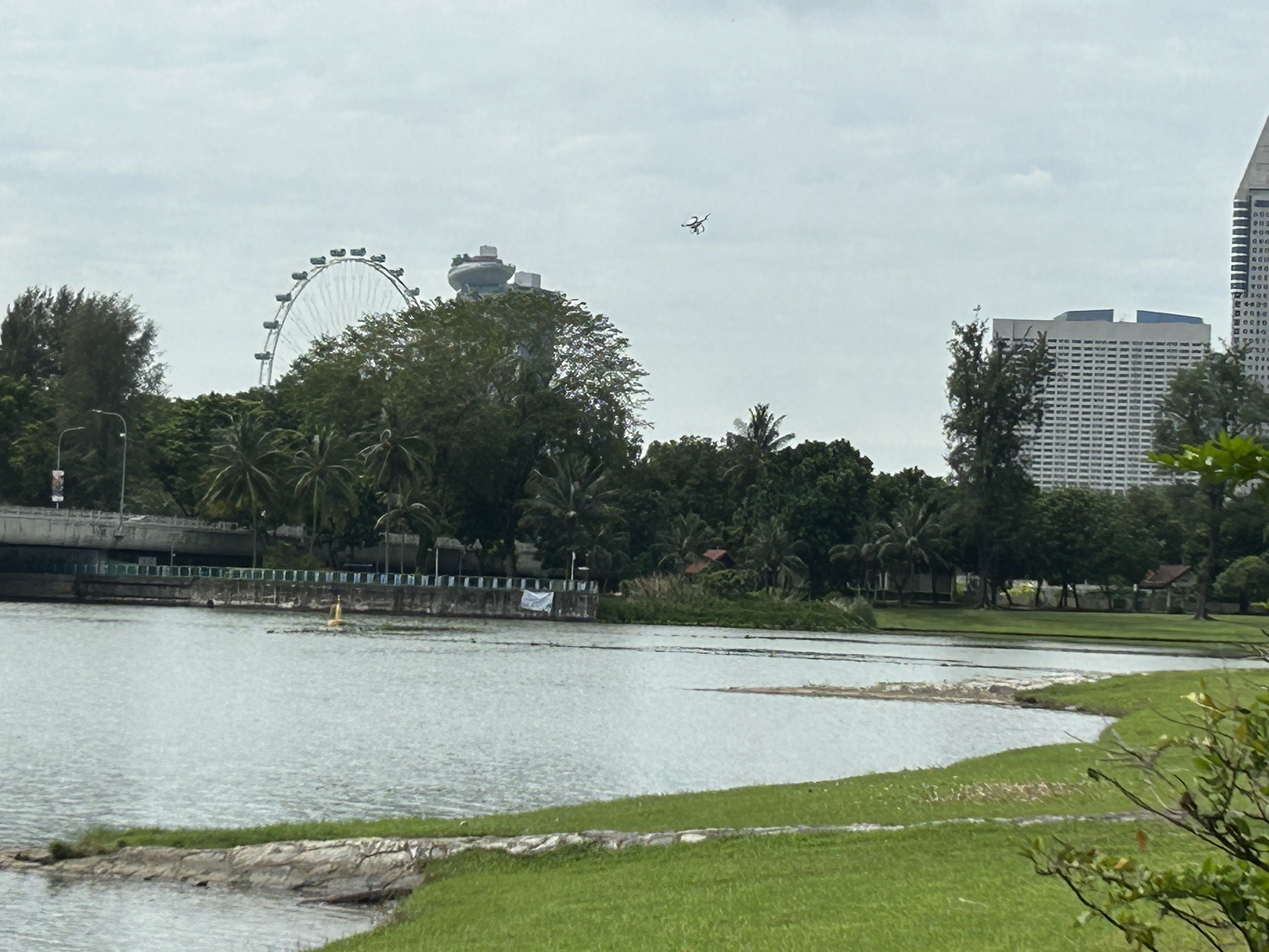drone_other: (680, 211, 712, 236)
